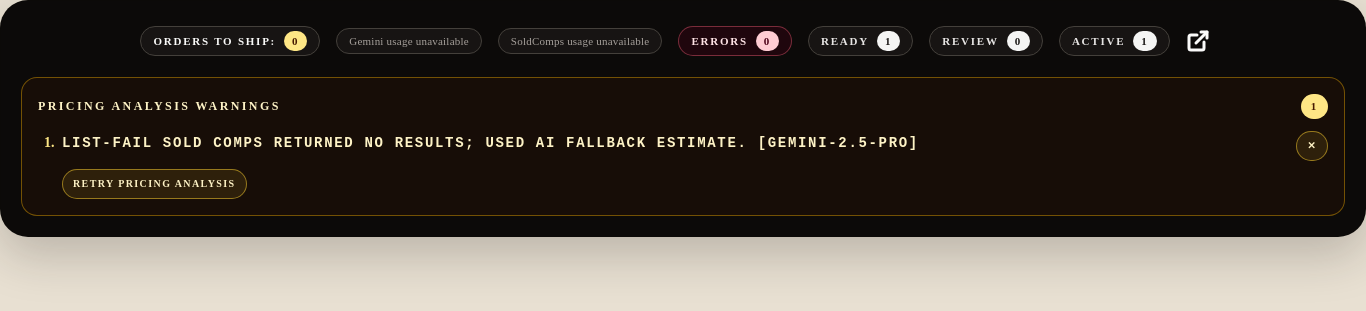
QueueErrorsPanel › shows error message on retry failure
Click the button "Retry pricing analysis": coordinates (154, 184) [62,168,246,198]
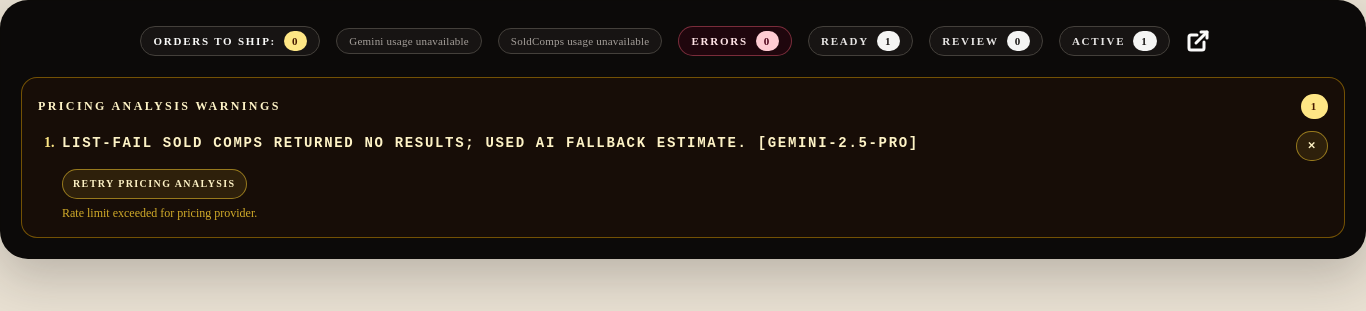
Check: the text "Rate limit exceeded for pricing provider." is shown, box [62,206,257,220]
